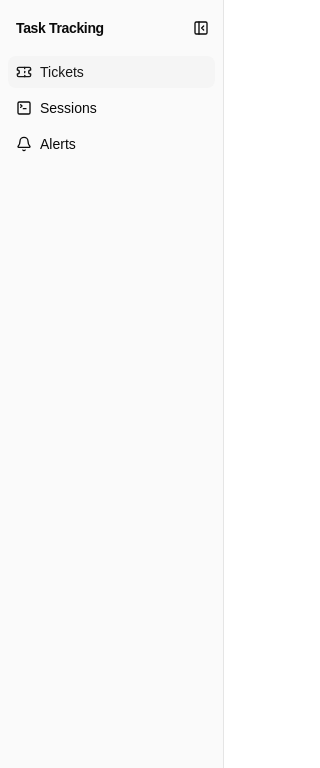
Test: AppShell › collapsing the sidebar hides labels but keeps icons
Click the button named "collapse sidebar".
click(201, 28)  # box [187,14,215,42]
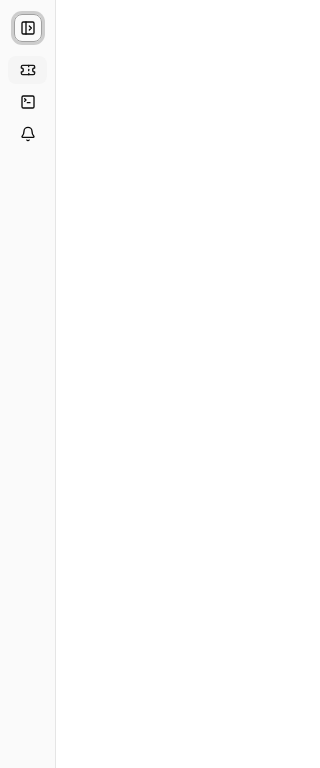
Check: the text "Tickets" is gone
Check: the text "Sessions" is gone
Check: the button named "expand sidebar" is shown, box [14,14,42,42]
